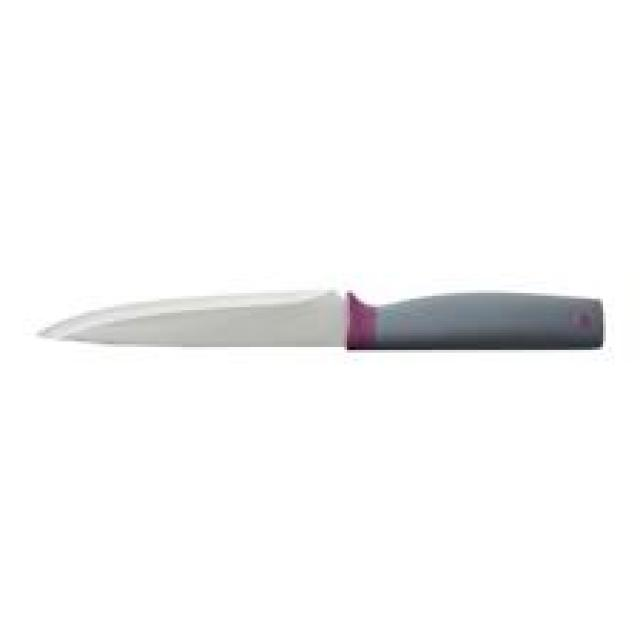knife: (36, 287, 608, 351)
